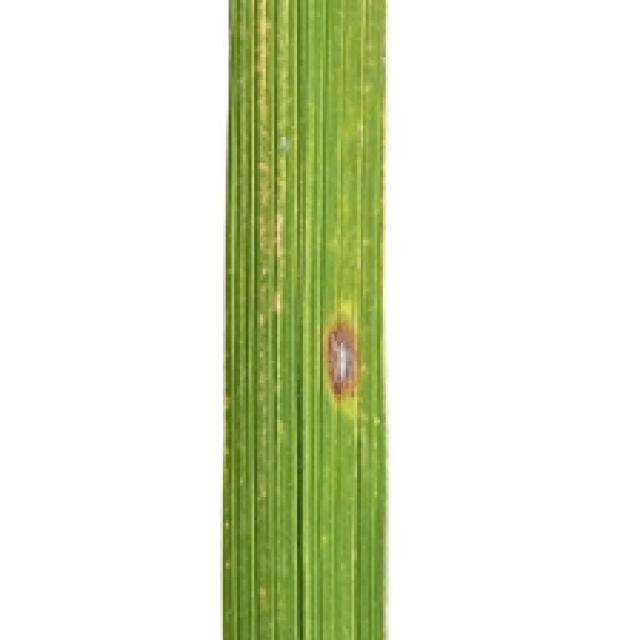Rice___Rice_Blast: (225, 0, 388, 637)
